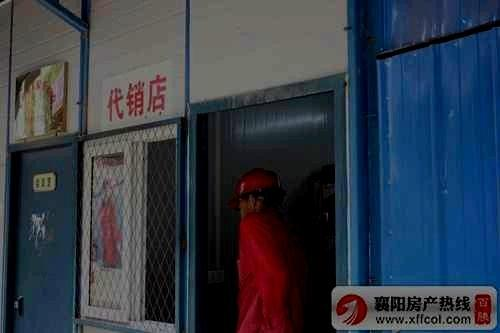helmet: (234, 168, 282, 218)
